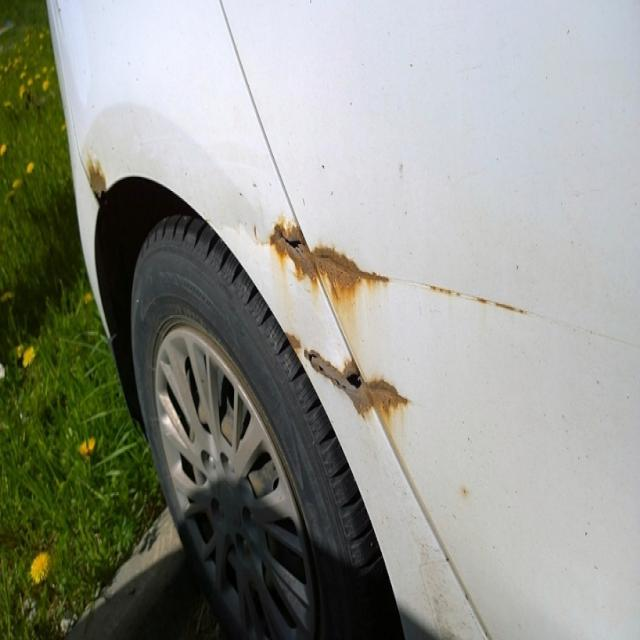corrosion: (265, 213, 391, 304), (290, 329, 413, 422), (430, 271, 536, 325), (88, 162, 111, 200)
